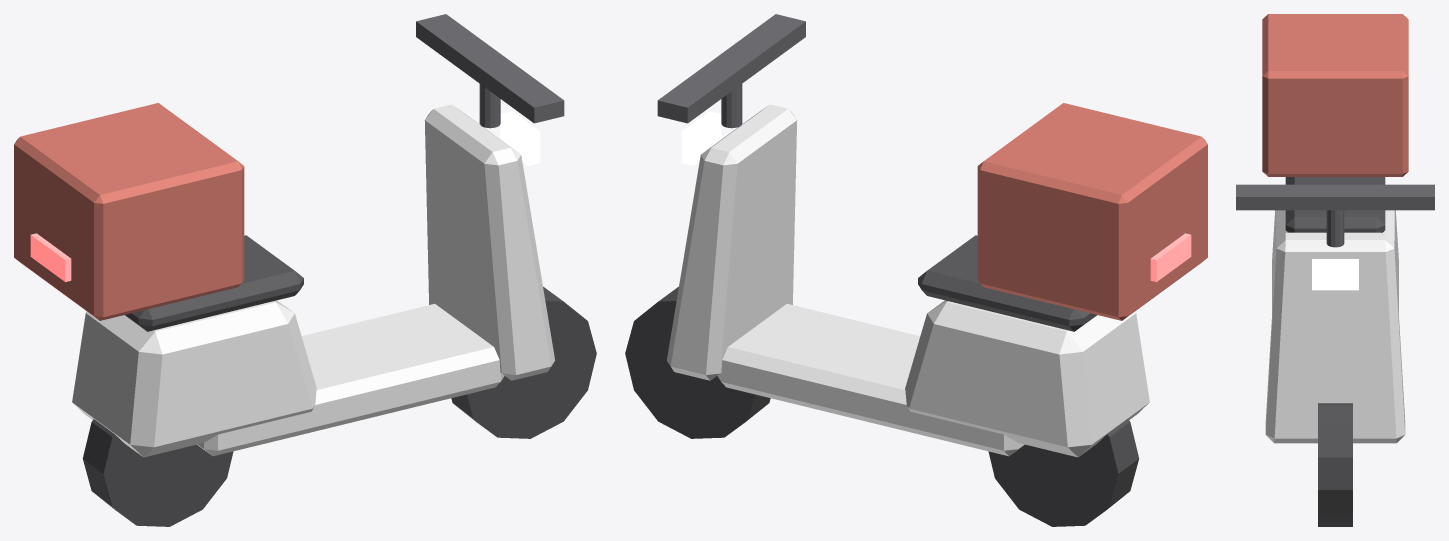
The model's file is car_scooter.glb.
3 views of the same model, side by side, from view 1: azimuth 30°, elevation 25°; view 2: azimuth 150°, elevation 25°; view 3: azimuth 270°, elevation 25° (orthographic). The views are drawn at different scales.
Parts seen in each view (by area): view 1: deliveryBox, rearbody, shield, floor, tyre-0.6, tyre0.6, bars, seat, head, tail, column; view 2: deliveryBox, rearbody, shield, floor, tyre-0.6, tyre0.6, bars, seat, head, tail, column; view 3: shield, deliveryBox, bars, tyre0.6, seat, head, rearbody, column.
Boxes of the visible parts, left/top/right/bottom form: deliveryBox: left=14, top=103, right=244, bottom=320; rearbody: left=72, top=300, right=316, bottom=457; shield: left=424, top=104, right=554, bottom=380; floor: left=197, top=303, right=504, bottom=456; tyre-0.6: left=82, top=419, right=233, bottom=526; tyre0.6: left=451, top=286, right=596, bottom=438; bars: left=416, top=14, right=564, bottom=123; seat: left=125, top=235, right=303, bottom=331; head: left=500, top=111, right=540, bottom=165; tail: left=30, top=233, right=71, bottom=281; column: left=479, top=56, right=500, bottom=128; deliveryBox: left=977, top=103, right=1207, bottom=320; rearbody: left=905, top=300, right=1149, bottom=457; shield: left=667, top=104, right=797, bottom=380; floor: left=717, top=303, right=1024, bottom=456; tyre-0.6: left=988, top=419, right=1139, bottom=526; tyre0.6: left=625, top=286, right=770, bottom=438; bars: left=657, top=14, right=805, bottom=123; seat: left=918, top=235, right=1096, bottom=331; head: left=681, top=111, right=721, bottom=165; tail: left=1150, top=233, right=1191, bottom=281; column: left=721, top=56, right=742, bottom=128; shield: left=1265, top=232, right=1405, bottom=443; deliveryBox: left=1262, top=14, right=1408, bottom=176; bars: left=1236, top=184, right=1434, bottom=210; tyre0.6: left=1318, top=403, right=1352, bottom=526; seat: left=1285, top=177, right=1385, bottom=232; head: left=1312, top=259, right=1358, bottom=290; rearbody: left=1272, top=210, right=1398, bottom=313; column: left=1326, top=187, right=1344, bottom=247.
Bounding box in the file's own units: 1.79 × 1.2 × 0.68.
